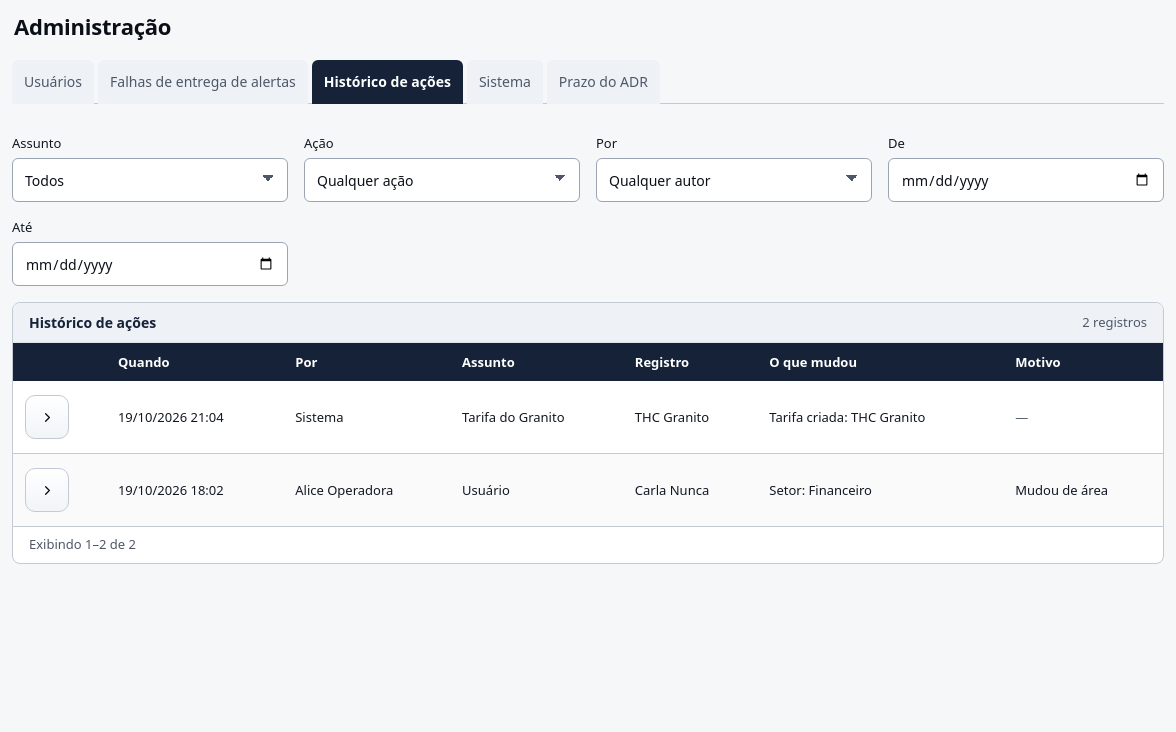
Test: Histórico de ações: pessoa pelo nome, "Sistema" sem autor, assunto e frase em português
Expected: the text "Sistema" is shown, x1=283 y1=381 x2=450 y2=454
Expected: the text "Tarifa do Granito" is shown, x1=450 y1=381 x2=623 y2=454
Click the button named "Abrir".
click(47, 490)  # box x1=25 y1=468 x2=69 y2=512
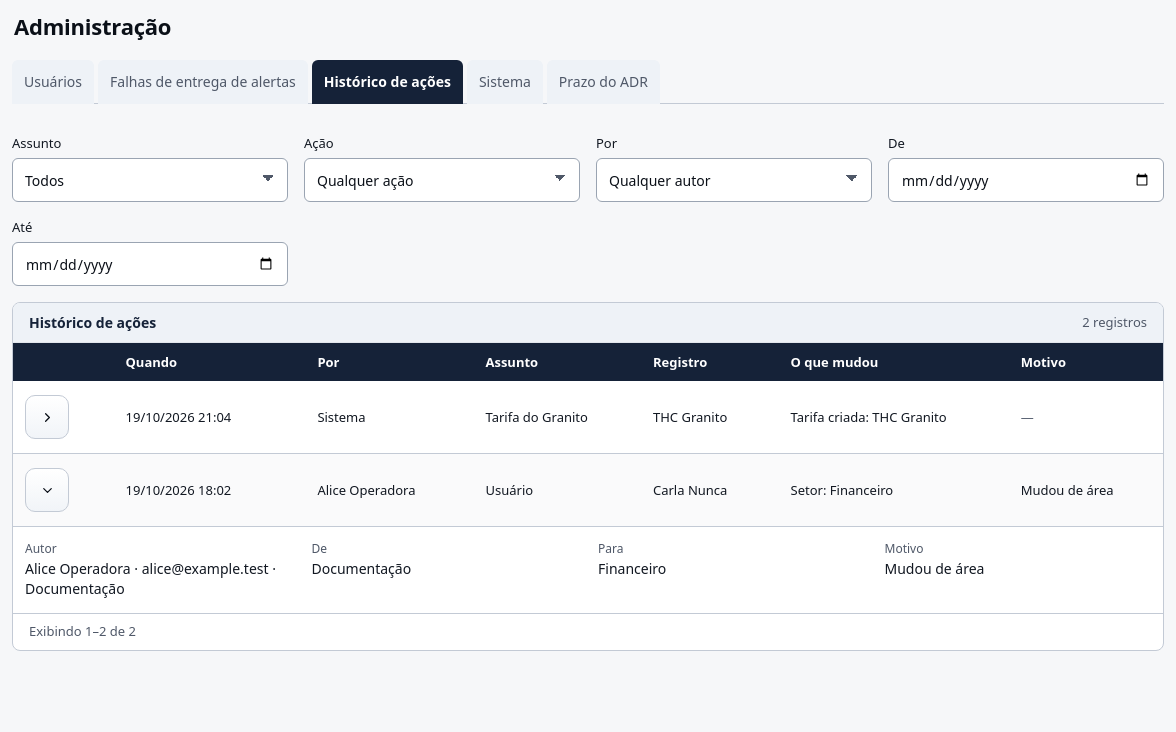
Result: the text "Documentação" is shown at x1=312 y1=559 x2=411 y2=578
Result: the text "Financeiro" is shown at x1=598 y1=559 x2=666 y2=578
Result: the text "Alice Operadora · alice@example.test · Documentação" is shown at x1=25 y1=559 x2=292 y2=599
